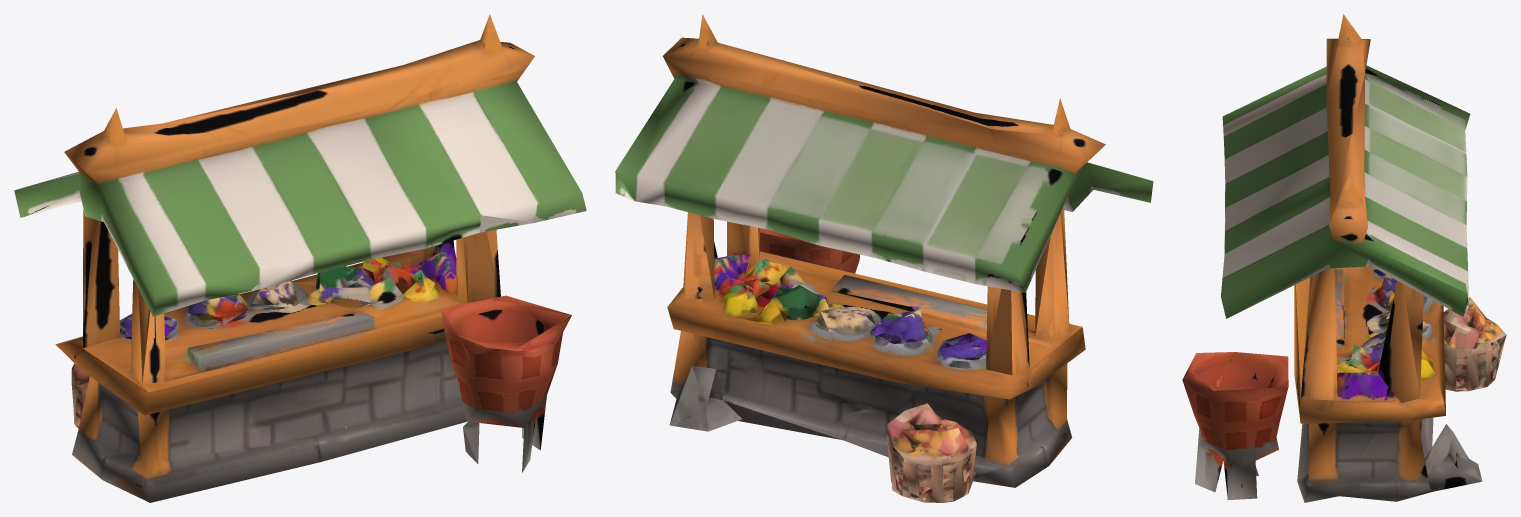
Rendered from awning_stall_1_1500.glb.
The picture shows the model from 3 angles, left to right: view 1: azimuth 30°, elevation 25°; view 2: azimuth 150°, elevation 25°; view 3: azimuth 270°, elevation 25°; orthographic projection. The views are drawn at different scales.
Parts seen in each view (by area): view 1: t1500; view 2: t1500; view 3: t1500.
Boxes of the visible parts, left/top/right/bottom form: t1500: left=14, top=14, right=586, bottom=502; t1500: left=615, top=14, right=1153, bottom=502; t1500: left=1182, top=14, right=1506, bottom=502.
Size of the model in its own units: 1.89 by 1.54 by 1.35.
Materials: 1 (1 with a texture image).
